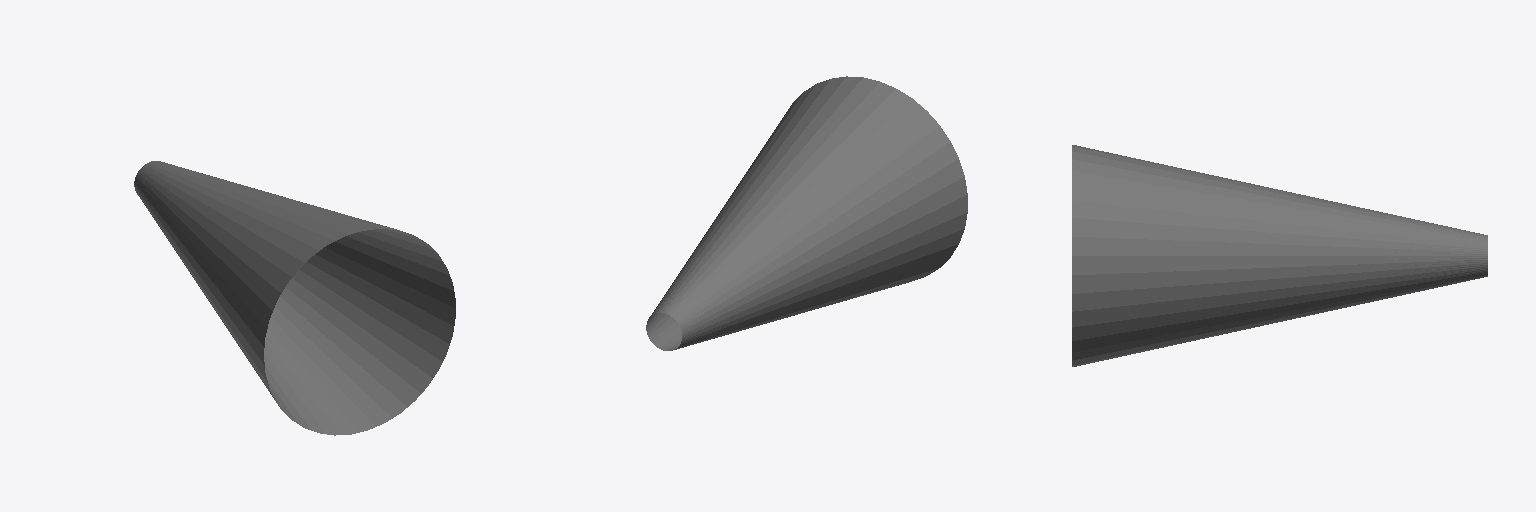
The model's file is spotLightCone_highPoly.obj.
3 views of the same model, side by side, from view 1: azimuth 30°, elevation 25°; view 2: azimuth 150°, elevation 25°; view 3: azimuth 270°, elevation 25° (orthographic).
Parts seen in each view (by area): view 1: spotLightCone; view 2: spotLightCone; view 3: spotLightCone.
Part boxes in pixels (bbox=[...]): spotLightCone: bbox=[134, 161, 455, 435]; spotLightCone: bbox=[646, 76, 967, 350]; spotLightCone: bbox=[1072, 145, 1487, 366].
Bounding box in the file's own units: 2.23 × 2.23 × 4.16.